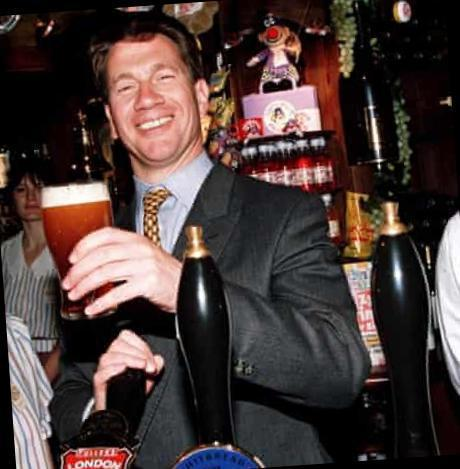Drunk: (109, 42, 194, 158)
